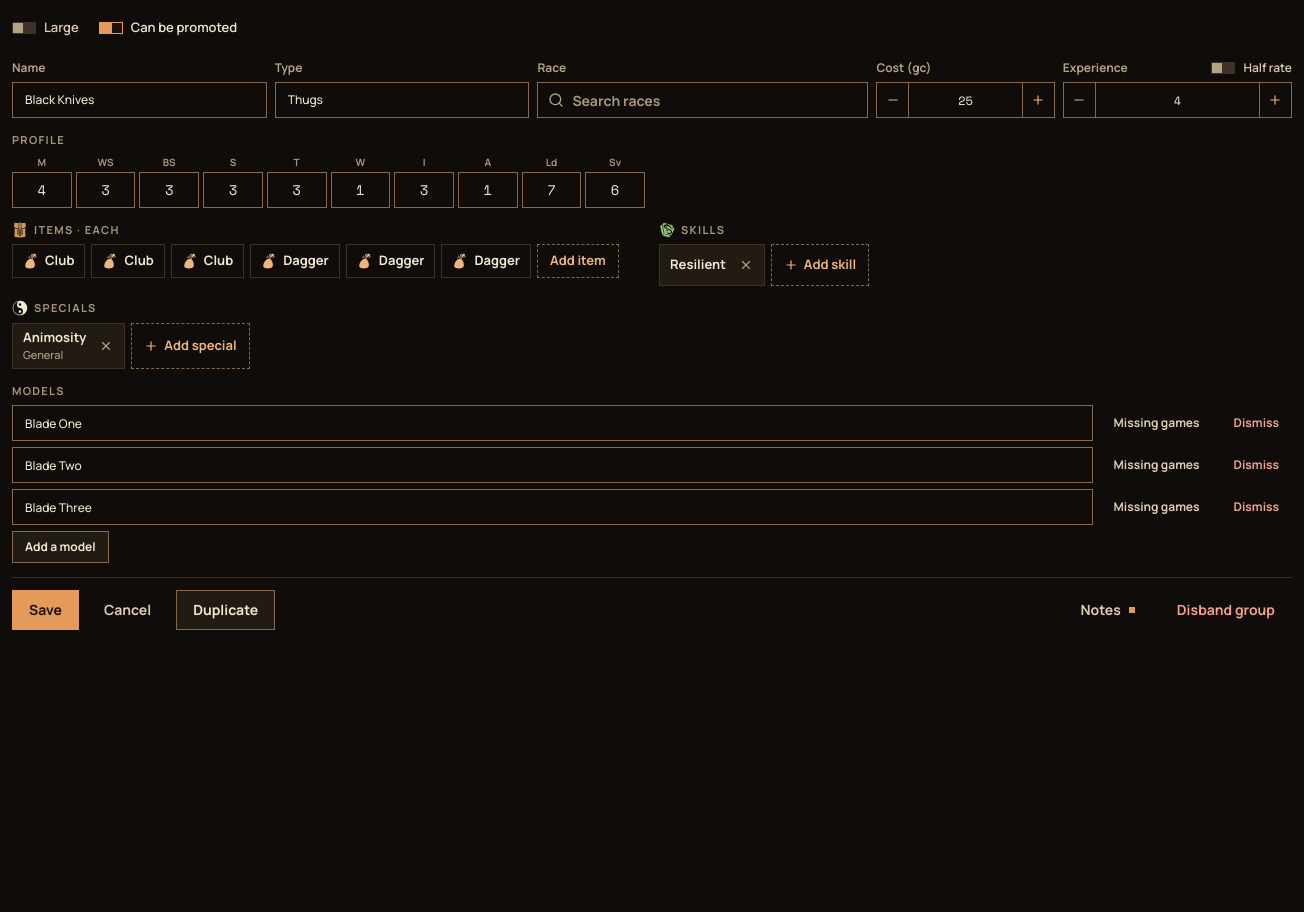
Scenario: The Edit form's notes › show the unit's own, which can be cleared, for a henchmen group too
Later steps or results of the test are not shown.
Click the button named "Notes (written)".
click(1108, 610)  # box left=1063, top=590, right=1152, bottom=630
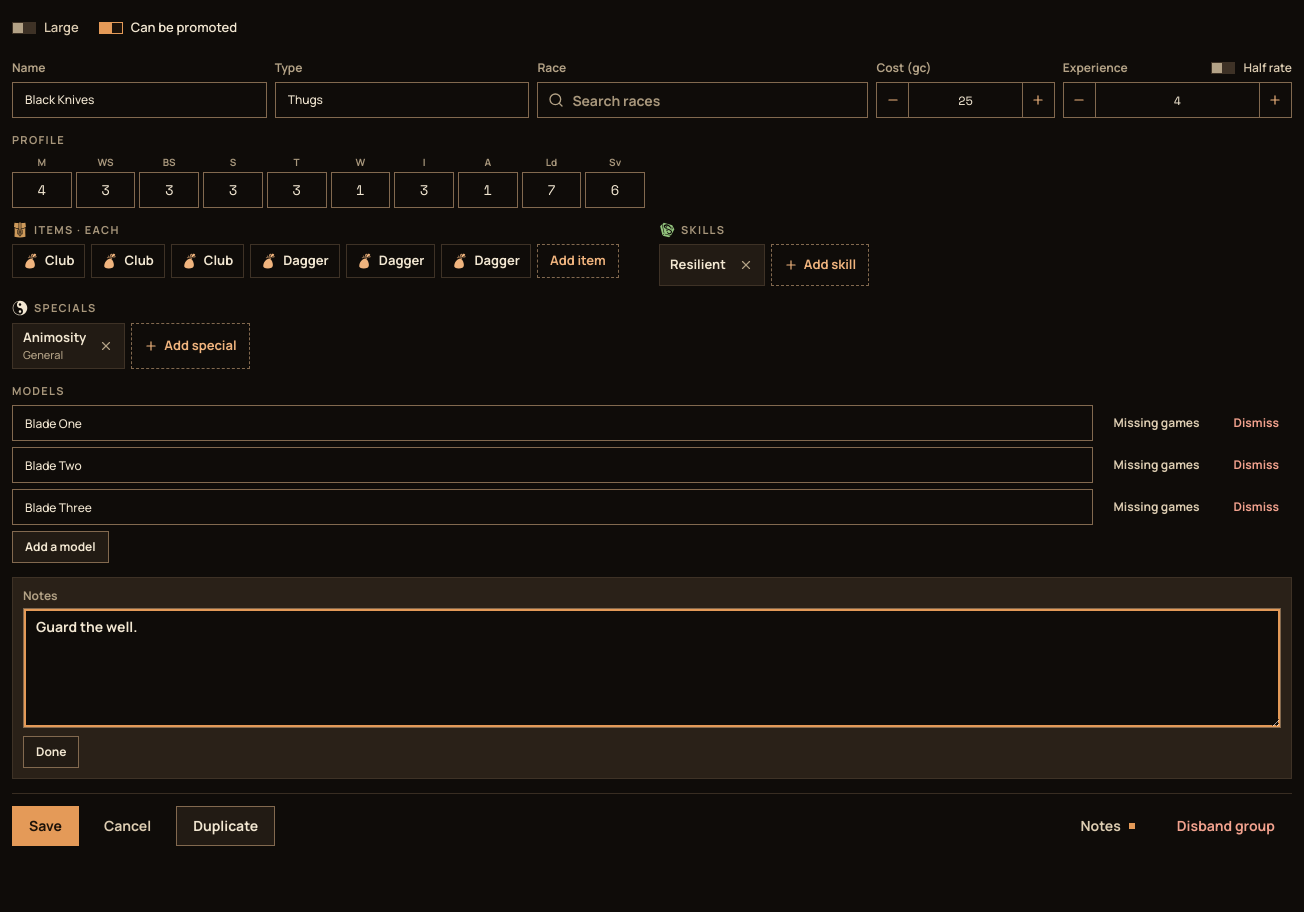
Now the text box labelled "Notes" holds "Guard the well.", box left=23, top=608, right=1281, bottom=728
